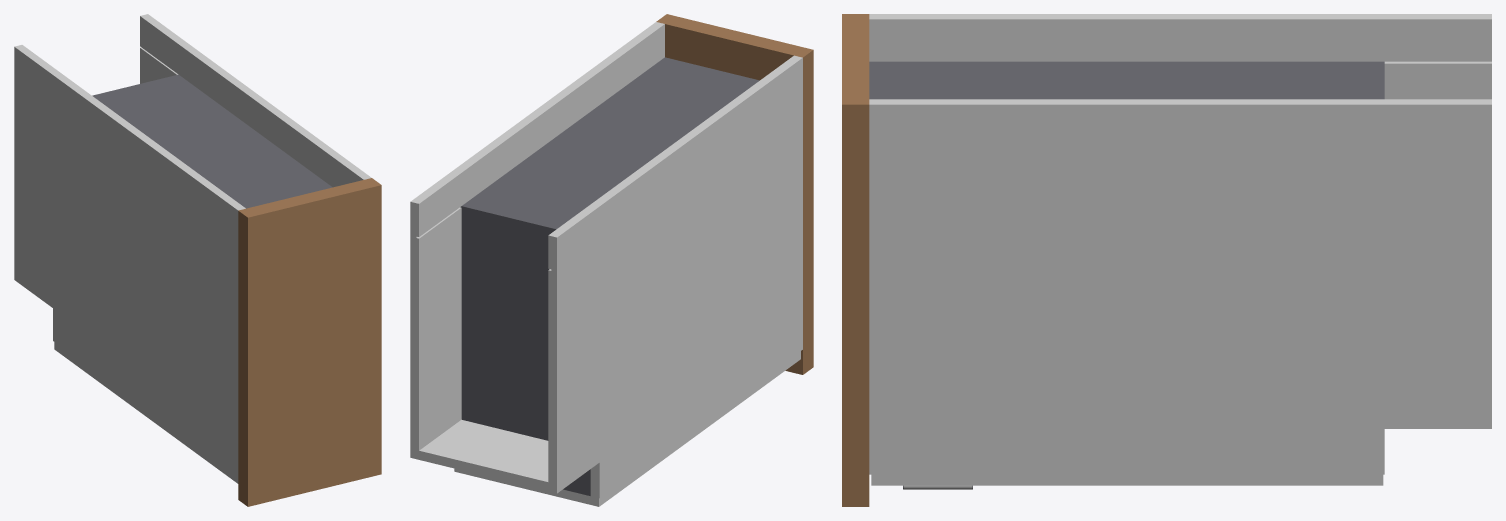
Rendered from Kitchen Cabinets_30CM Highline Cabinet (2).obj.
The picture shows the model from 3 angles, left to right: view 1: azimuth 30°, elevation 25°; view 2: azimuth 150°, elevation 25°; view 3: azimuth 270°, elevation 25°; orthographic projection. The views are drawn at different scales.
Parts seen in each view (by area): view 1: LH_Panel_(5), Worktop_(5), BackPanel_(5), RH_Panel_(5), Door_(5); view 2: LH_Panel_(5), RH_Panel_(5), BackPanel_(5), Bottom_Shelf_(5), Worktop_(5), Plinth_(5), Door_(5); view 3: RH_Panel_(5), LH_Panel_(5), BackPanel_(5), Worktop_(5), Door_(5), Plinth_(5).
Part boxes in pixels (x1,y1,x2,y2): LH_Panel_(5): [14, 45, 245, 475]; Worktop_(5): [238, 178, 381, 506]; BackPanel_(5): [92, 74, 332, 208]; RH_Panel_(5): [140, 14, 371, 187]; Door_(5): [54, 342, 238, 483]; LH_Panel_(5): [548, 55, 802, 498]; RH_Panel_(5): [410, 22, 664, 450]; BackPanel_(5): [460, 57, 759, 230]; Bottom_Shelf_(5): [461, 208, 590, 495]; Worktop_(5): [656, 14, 813, 374]; Plinth_(5): [410, 419, 599, 493]; Door_(5): [454, 351, 800, 506]; RH_Panel_(5): [869, 99, 1491, 474]; LH_Panel_(5): [869, 14, 1491, 99]; BackPanel_(5): [869, 61, 1384, 99]; Worktop_(5): [842, 14, 869, 506]; Door_(5): [871, 474, 1383, 485]; Plinth_(5): [1384, 417, 1491, 428].
Size of the model in its own units: 0.3 by 0.62 by 0.908.
